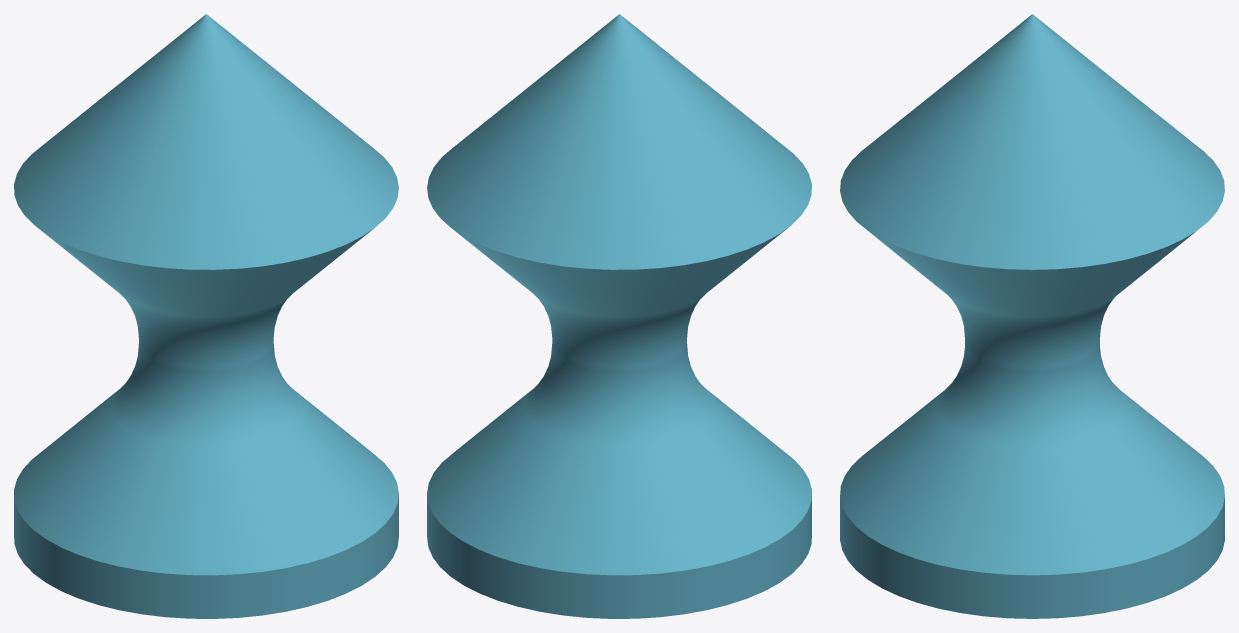
The model's file is Fate Game Piece V3 Moonstone.glb.
3 views of the same model, side by side, from view 1: azimuth 30°, elevation 25°; view 2: azimuth 150°, elevation 25°; view 3: azimuth 270°, elevation 25° (orthographic).
Visible parts, largest first — view 1: Solid1; view 2: Solid1; view 3: Solid1.
Boxes of the visible parts, x1,y1,x2,y2 form: Solid1: (14, 14, 398, 618); Solid1: (427, 14, 811, 618); Solid1: (840, 14, 1224, 618).
Size of the model in its own units: 0.0254 by 0.0381 by 0.0254.
